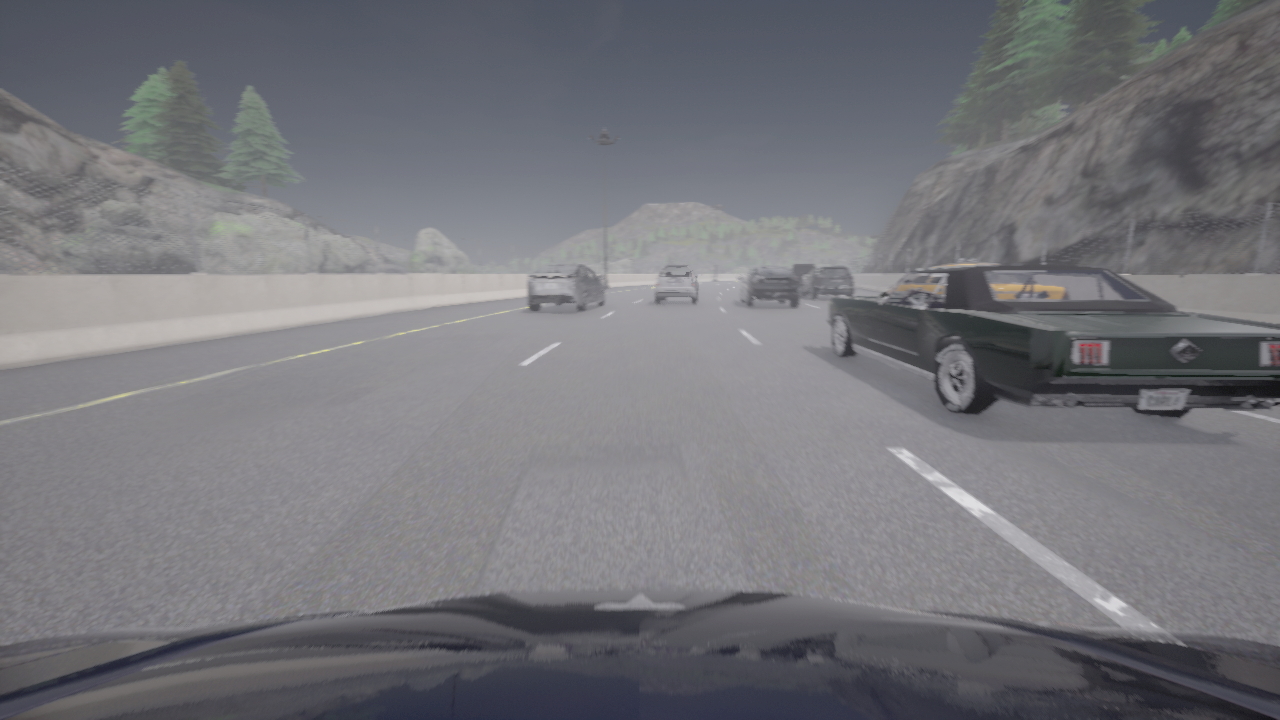cyclist: (0, 588, 1279, 719), (826, 263, 1279, 418), (528, 264, 605, 311), (737, 265, 799, 307), (654, 264, 700, 304), (800, 265, 854, 298), (932, 257, 999, 267), (791, 263, 814, 286)
